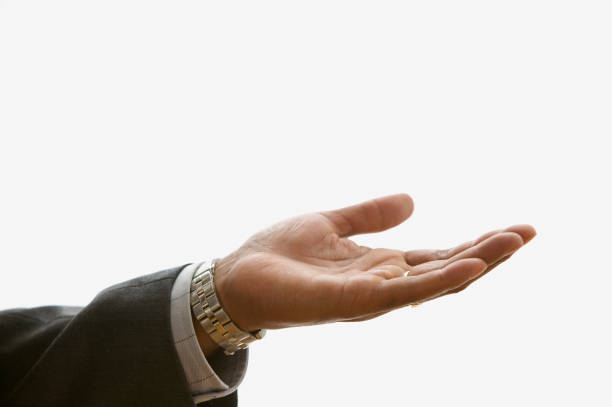hand: (224, 176, 560, 340)
